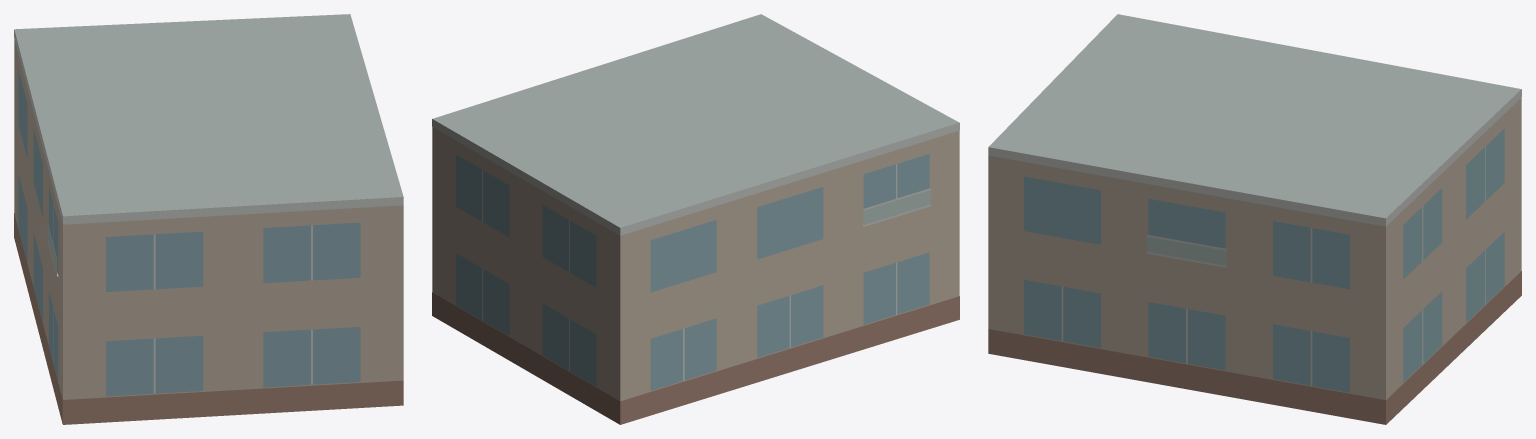
The model's file is survey-upis-32926697.glb.
3 renders of one model, left to right at view 1: azimuth 30°, elevation 25°; view 2: azimuth 150°, elevation 25°; view 3: azimuth 270°, elevation 25°, orthographic. The views are drawn at different scales.
Parts seen in each view (by area): view 1: survey-upis-32926697.tmp; view 2: survey-upis-32926697.tmp; view 3: survey-upis-32926697.tmp.
Part boxes in pixels (<box>): survey-upis-32926697.tmp: <box>14,14,403,424</box>; survey-upis-32926697.tmp: <box>432,14,959,424</box>; survey-upis-32926697.tmp: <box>988,14,1521,424</box>.
Size of the model in its own units: 12.96 by 6.1 by 14.29.
